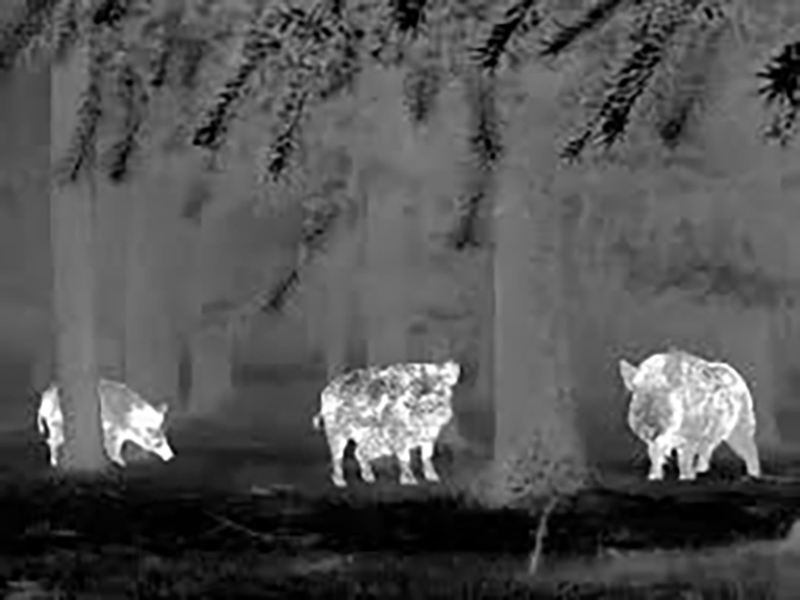cinghiale: (308, 352, 478, 488), (614, 353, 773, 485), (25, 372, 181, 477)
